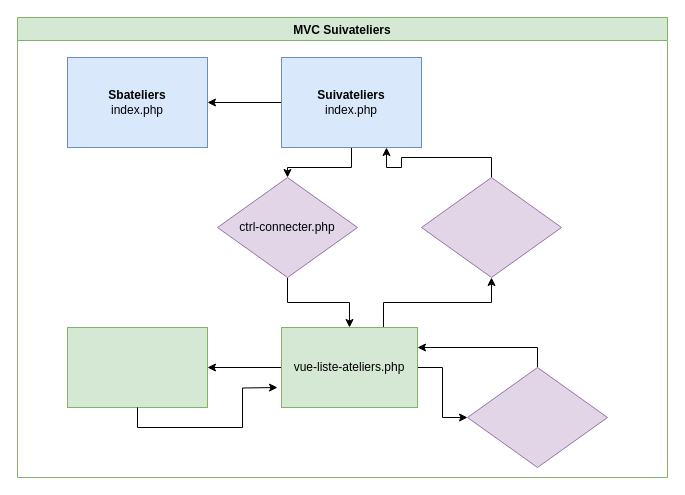
Some shapes in this 685 by 495 pixel diagram are drawn without their labels. Each missing label, with the box of its shape:
ctrl-deconnecter.php: (420, 176, 562, 278)
ctrl-suppr-atelier.php: (466, 366, 608, 468)
vue-liste-stagiaire.php: (66, 326, 208, 408)
